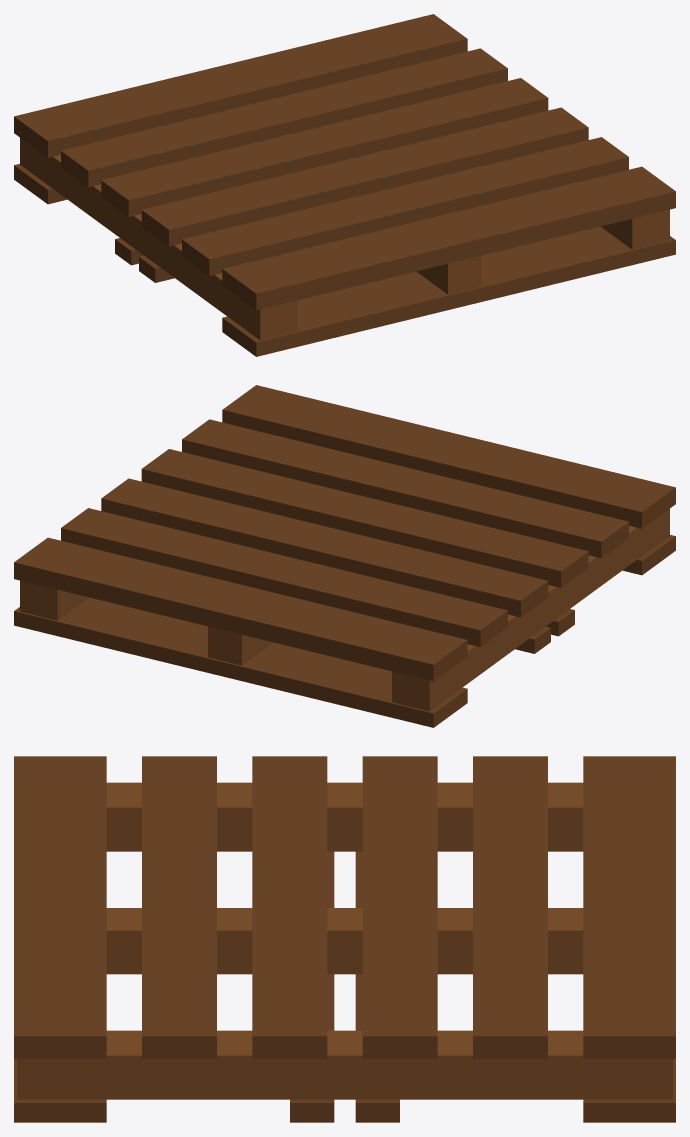
The model's file is Pallet_1_1.glb.
The picture shows the model from 3 angles, top to bottom: view 1: azimuth 30°, elevation 25°; view 2: azimuth 150°, elevation 25°; view 3: azimuth 270°, elevation 25°; orthographic projection. The views are drawn at different scales.
Visible parts, largest first — view 1: Pallet_1_1; view 2: Pallet_1_1; view 3: Pallet_1_1.
Boxes of the visible parts, box(x1,y1,x2,y2) form: Pallet_1_1: box(14, 14, 675, 356); Pallet_1_1: box(14, 385, 675, 727); Pallet_1_1: box(14, 756, 675, 1122).
Size of the model in its own units: 1.24 by 0.1783 by 1.24.
1 material, 1 textured.
